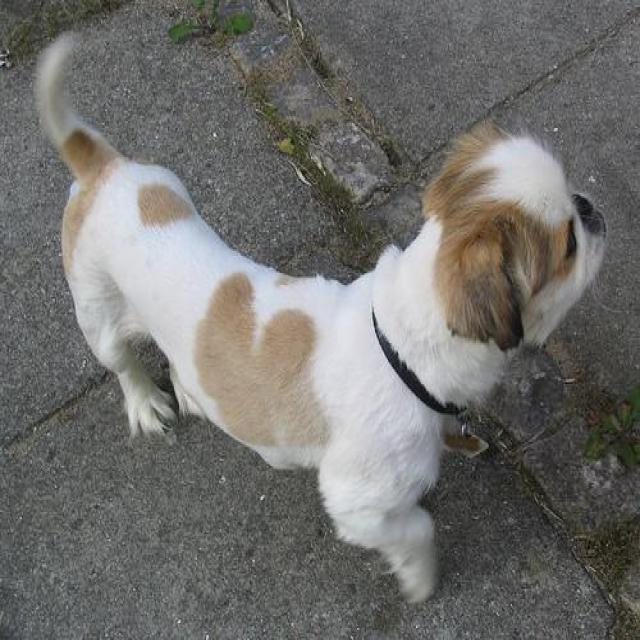pekinese: (31, 29, 604, 602)
